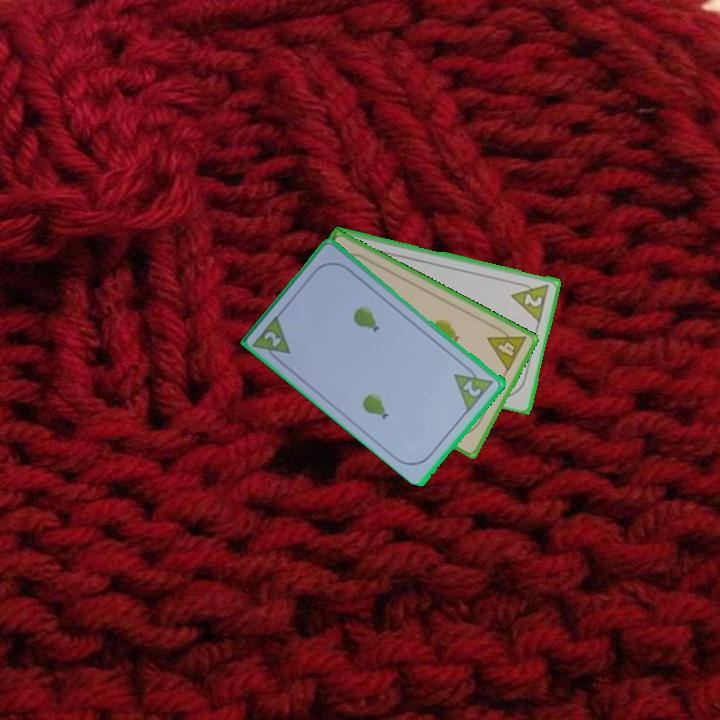2p: (450, 360, 497, 414), (250, 311, 294, 367), (508, 278, 552, 324)
4p: (484, 322, 529, 374)
